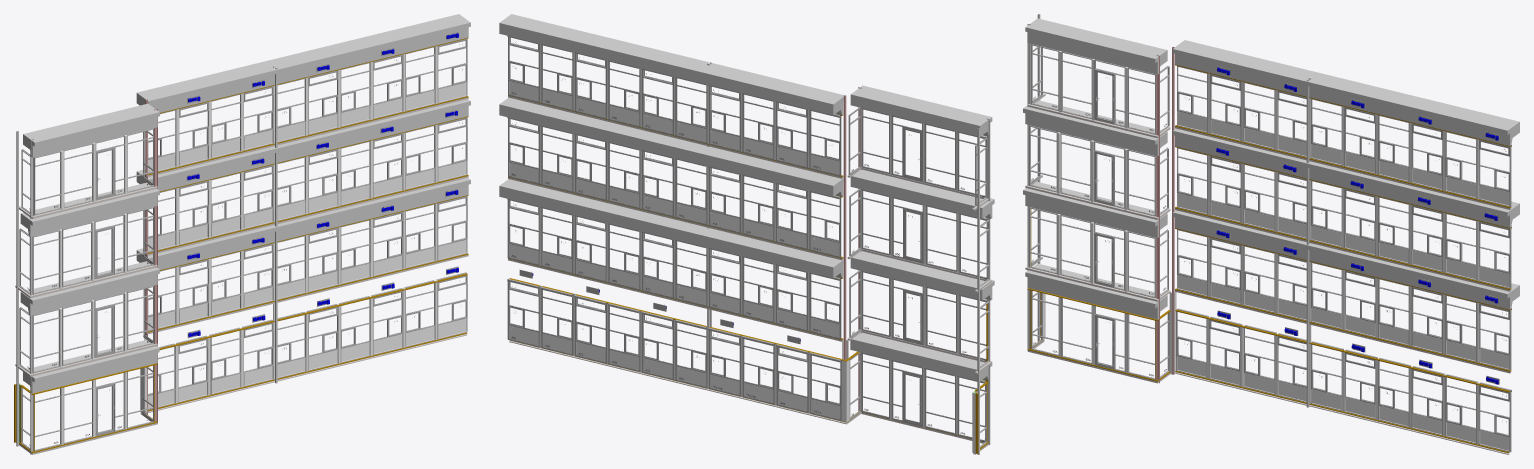
The model's file is customer_model.gltf.
The picture shows the model from 3 angles, left to right: view 1: azimuth 30°, elevation 25°; view 2: azimuth 150°, elevation 25°; view 3: azimuth 330°, elevation 25°; orthographic projection. The views are drawn at different scales.
Visible parts, largest first — view 1: 1jnl9iNi51khgHB1jNTFXI, 1jnl9iNi51khgHB1jNTFXb, 1jnl9iNi51khgHB1jNTFXs, 2h6KfJRzH3BhMdRuncLCAt, 2h6KfJRzH3BhMdRuncLCAy, 2h6KfJRzH3BhMdRuncLCAv, 1iHqQN6Bv029N8Bk$tLTU1, 2bgqA2d556JOEwSMqrjVIU, 2bgqA2d556JOEwSMqrjSaX, 2bgqA2d556JOEwSMqrjV$W, 2bgqA2d556JOEwSMqrjOcZ, 1jnl9iNi51khgHB1jNTFeX (+10 smaller); view 2: 1jnl9iNi51khgHB1jNTFXI, 1jnl9iNi51khgHB1jNTFXs, 1jnl9iNi51khgHB1jNTFXb, 2h6KfJRzH3BhMdRuncLCAt, 2h6KfJRzH3BhMdRuncLCAv, 2h6KfJRzH3BhMdRuncLCAy, 1iHqQN6Bv029N8Bk$tLTU1, 2bgqA2d556JOEwSMqrjNXq, 2bgqA2d556JOEwSMqrjVIU, 2bgqA2d556JOEwSMqrjSaX, 1jnl9iNi51khgHB1jNTE62, 1jnl9iNi51khgHB1jNTFWd (+5 smaller); view 3: 1jnl9iNi51khgHB1jNTFXI, 1jnl9iNi51khgHB1jNTFXb, 1jnl9iNi51khgHB1jNTFXs, 2h6KfJRzH3BhMdRuncLCAt, 2h6KfJRzH3BhMdRuncLCAy, 2h6KfJRzH3BhMdRuncLCAv, 1iHqQN6Bv029N8Bk$tLTU1, 2bgqA2d556JOEwSMqrjOcZ, 2bgqA2d556JOEwSMqrjV$W, 2bgqA2d556JOEwSMqrjVIU, 2bgqA2d556JOEwSMqrjNXq, 1jnl9iNi51khgHB1jNTFeX (+10 smaller).
Part boxes in pixels (x1=…): 1jnl9iNi51khgHB1jNTFXI: x1=136, y1=14, x2=470, y2=112; 1jnl9iNi51khgHB1jNTFXb: x1=136, y1=178, x2=470, y2=269; 1jnl9iNi51khgHB1jNTFXs: x1=136, y1=99, x2=470, y2=191; 2h6KfJRzH3BhMdRuncLCAt: x1=23, y1=103, x2=159, y2=157; 2h6KfJRzH3BhMdRuncLCAy: x1=20, y1=182, x2=159, y2=236; 2h6KfJRzH3BhMdRuncLCAv: x1=20, y1=261, x2=159, y2=315; 1iHqQN6Bv029N8Bk$tLTU1: x1=23, y1=340, x2=159, y2=393; 2bgqA2d556JOEwSMqrjVIU: x1=30, y1=139, x2=33, y2=454; 2bgqA2d556JOEwSMqrjSaX: x1=16, y1=131, x2=18, y2=446; 2bgqA2d556JOEwSMqrjV$W: x1=154, y1=109, x2=157, y2=423; 2bgqA2d556JOEwSMqrjOcZ: x1=275, y1=67, x2=277, y2=383; 1jnl9iNi51khgHB1jNTFeX: x1=159, y1=273, x2=467, y2=349; 1jnl9iNi51khgHB1jNTFXI: x1=499, y1=14, x2=843, y2=115; 1jnl9iNi51khgHB1jNTFXs: x1=499, y1=97, x2=843, y2=196; 1jnl9iNi51khgHB1jNTFXb: x1=499, y1=179, x2=843, y2=278; 2h6KfJRzH3BhMdRuncLCAt: x1=850, y1=85, x2=992, y2=136; 2h6KfJRzH3BhMdRuncLCAv: x1=850, y1=251, x2=994, y2=300; 2h6KfJRzH3BhMdRuncLCAy: x1=850, y1=169, x2=994, y2=218; 1iHqQN6Bv029N8Bk$tLTU1: x1=850, y1=332, x2=992, y2=381; 2bgqA2d556JOEwSMqrjNXq: x1=843, y1=95, x2=846, y2=359; 2bgqA2d556JOEwSMqrjVIU: x1=986, y1=118, x2=990, y2=444; 2bgqA2d556JOEwSMqrjSaX: x1=977, y1=128, x2=979, y2=454; 1jnl9iNi51khgHB1jNTE62: x1=509, y1=340, x2=847, y2=424; 1jnl9iNi51khgHB1jNTFWd: x1=508, y1=258, x2=843, y2=341; 1jnl9iNi51khgHB1jNTFXI: x1=1172, y1=40, x2=1519, y2=146; 1jnl9iNi51khgHB1jNTFXb: x1=1172, y1=210, x2=1519, y2=309; 1jnl9iNi51khgHB1jNTFXs: x1=1172, y1=128, x2=1519, y2=227; 2h6KfJRzH3BhMdRuncLCAt: x1=1025, y1=18, x2=1167, y2=74; 2h6KfJRzH3BhMdRuncLCAy: x1=1023, y1=100, x2=1167, y2=156; 2h6KfJRzH3BhMdRuncLCAv: x1=1023, y1=181, x2=1167, y2=237; 1iHqQN6Bv029N8Bk$tLTU1: x1=1025, y1=263, x2=1167, y2=319; 2bgqA2d556JOEwSMqrjOcZ: x1=1306, y1=79, x2=1309, y2=407; 2bgqA2d556JOEwSMqrjV$W: x1=1156, y1=55, x2=1159, y2=383; 2bgqA2d556JOEwSMqrjVIU: x1=1027, y1=24, x2=1030, y2=350; 2bgqA2d556JOEwSMqrjNXq: x1=1172, y1=47, x2=1174, y2=374; 1jnl9iNi51khgHB1jNTFeX: x1=1175, y1=309, x2=1510, y2=392.
Size of what is drawn, in the model's own units: 25.34 by 16.85 by 2.5.
